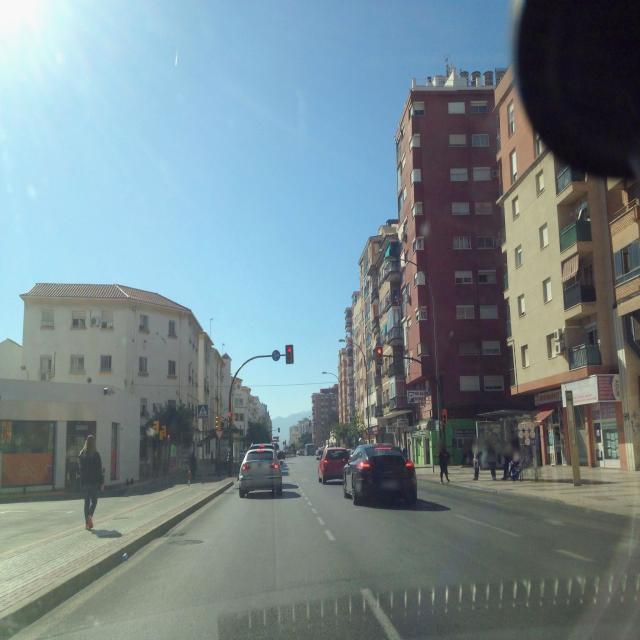car: (342, 442, 418, 506), (238, 448, 283, 498), (317, 447, 351, 483), (297, 448, 305, 456)
